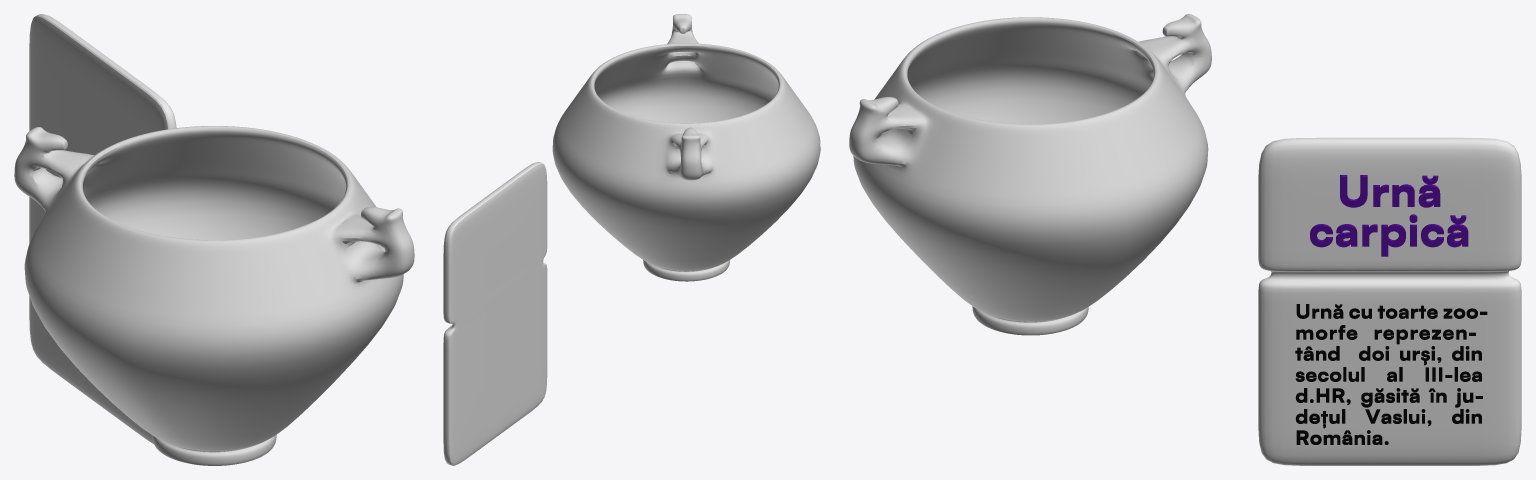
File: Urna scaled.fbx
3 renders of one model, left to right at view 1: azimuth 30°, elevation 25°; view 2: azimuth 150°, elevation 25°; view 3: azimuth 270°, elevation 25°, orthographic. The views are drawn at different scales.
Parts seen in each view (by area): view 1: Oala getodaca, Plane.078; view 2: Oala getodaca, Plane.078; view 3: Oala getodaca, Plane.078, Text.022, Text.021.
Boxes of the visible parts, left/top/right/bottom form: Oala getodaca: left=14, top=126, right=414, bottom=465; Plane.078: left=29, top=14, right=176, bottom=443; Oala getodaca: left=552, top=14, right=820, bottom=281; Plane.078: left=443, top=162, right=547, bottom=465; Oala getodaca: left=849, top=14, right=1211, bottom=335; Plane.078: left=1258, top=137, right=1521, bottom=465; Text.022: left=1295, top=304, right=1487, bottom=444; Text.021: left=1310, top=175, right=1468, bottom=256.
Bounding box in the file's own units: 0.2752 × 0.3145 × 0.5198.
